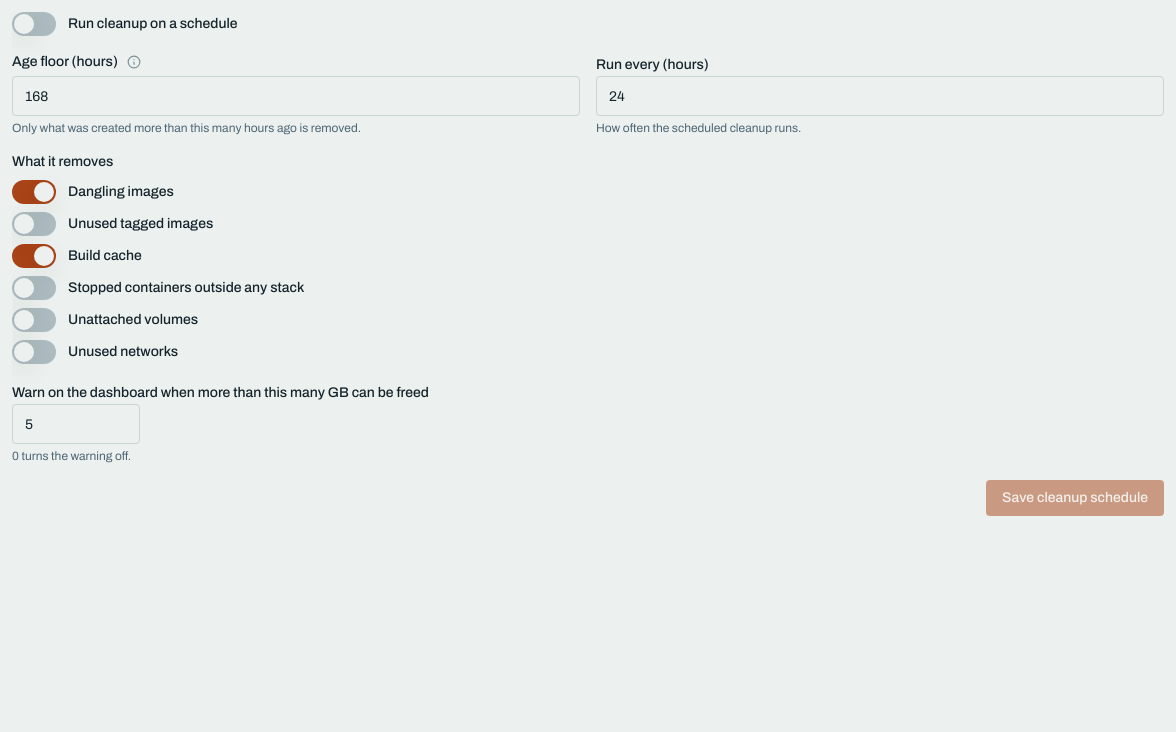
it: CleanupPolicyForm: categories (D98-A) › shows the unused-images warning only while that switch is on
Expected: the number field labelled "Age floor (hours)" is shown, 12,76 -> 580,116
Click the switch named "Unused tagged images" next to "Unused tagged images" at (34, 224), box 12,212 -> 56,236
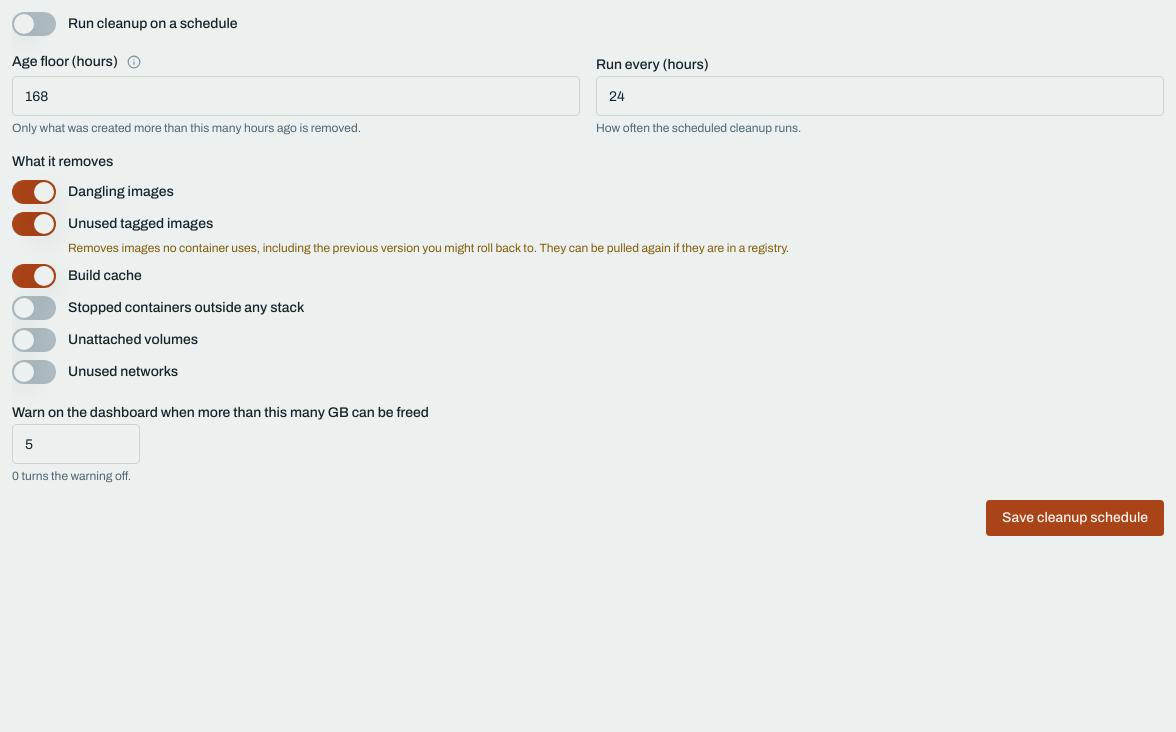
Expected: the text with test id "cleanup-warning-unusedImages" shows "Removes images no container uses, including the previous version you might roll back to. They can be pulled again if they are in a registry.", 68,241 -> 789,255
Click the switch named "Unused tagged images" next to "Unused tagged images" at (34, 224), box 12,212 -> 56,236
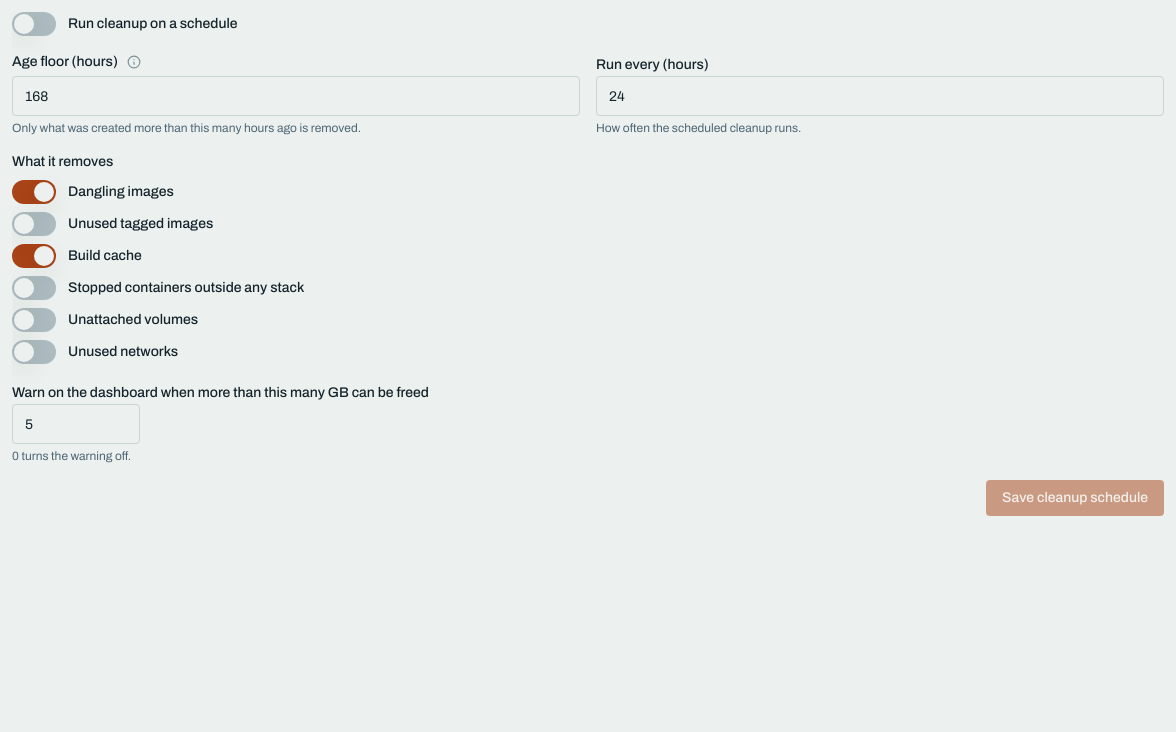
Expected: the text "Removes images no container uses, including the previous version you might roll back to. They can be pulled again if the" is gone
